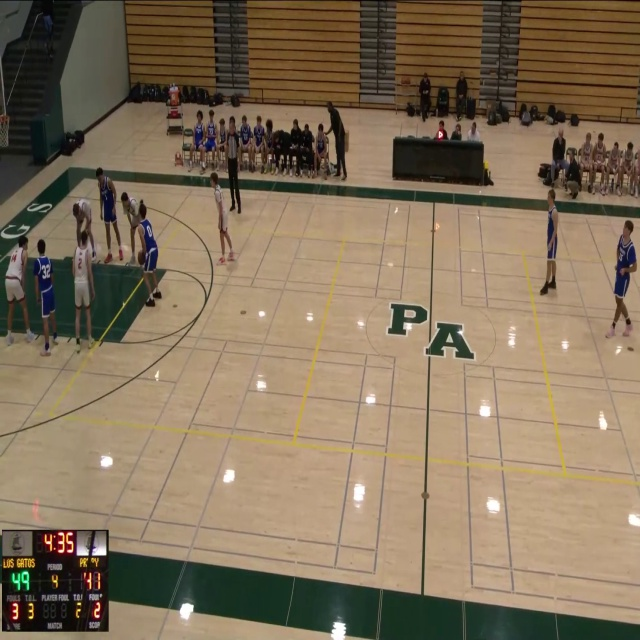Basketball: (137, 250, 146, 265)
